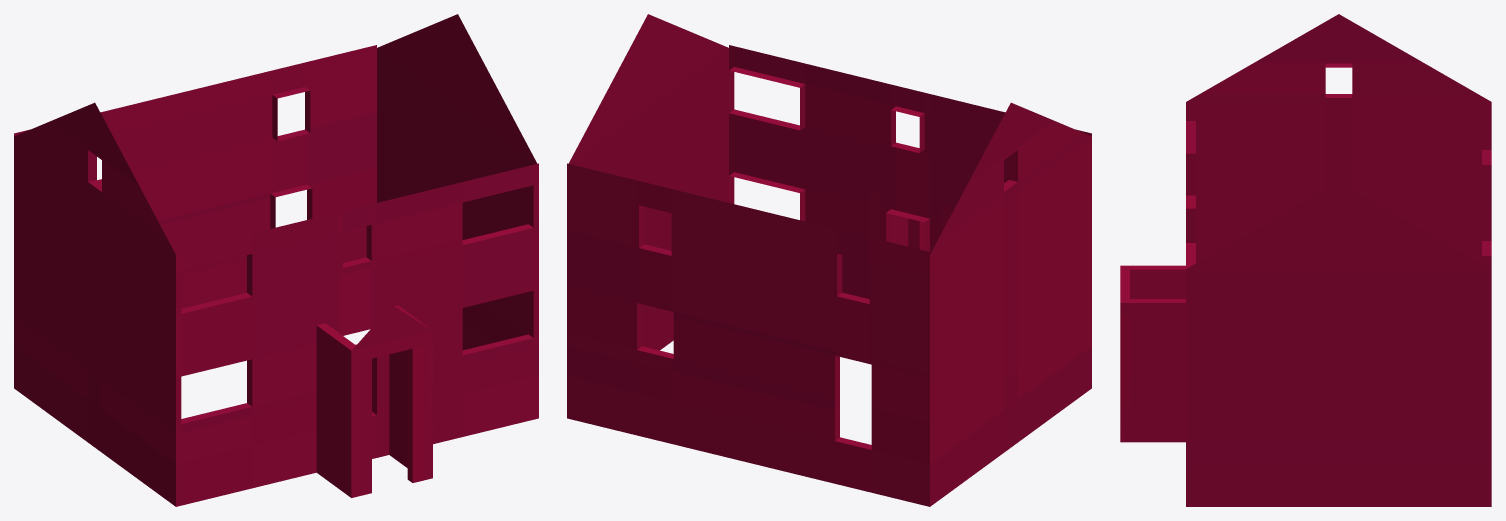
The model's file is SM_Bld_021_Masonry.glb.
The picture shows the model from 3 angles, left to right: view 1: azimuth 30°, elevation 25°; view 2: azimuth 150°, elevation 25°; view 3: azimuth 270°, elevation 25°; orthographic projection. The views are drawn at different scales.
Parts seen in each view (by area): view 1: SM_Bld_021_Masonry; view 2: SM_Bld_021_Masonry; view 3: SM_Bld_021_Masonry.
Part boxes in pixels (<box>): SM_Bld_021_Masonry: <box>14,14,538,506</box>; SM_Bld_021_Masonry: <box>567,14,1091,506</box>; SM_Bld_021_Masonry: <box>1120,14,1491,506</box>.
Size of the model in its own units: 8.89 by 8.08 by 8.35.
